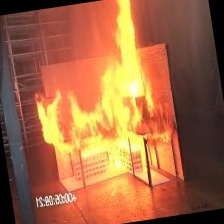fire: (21, 0, 175, 189)
